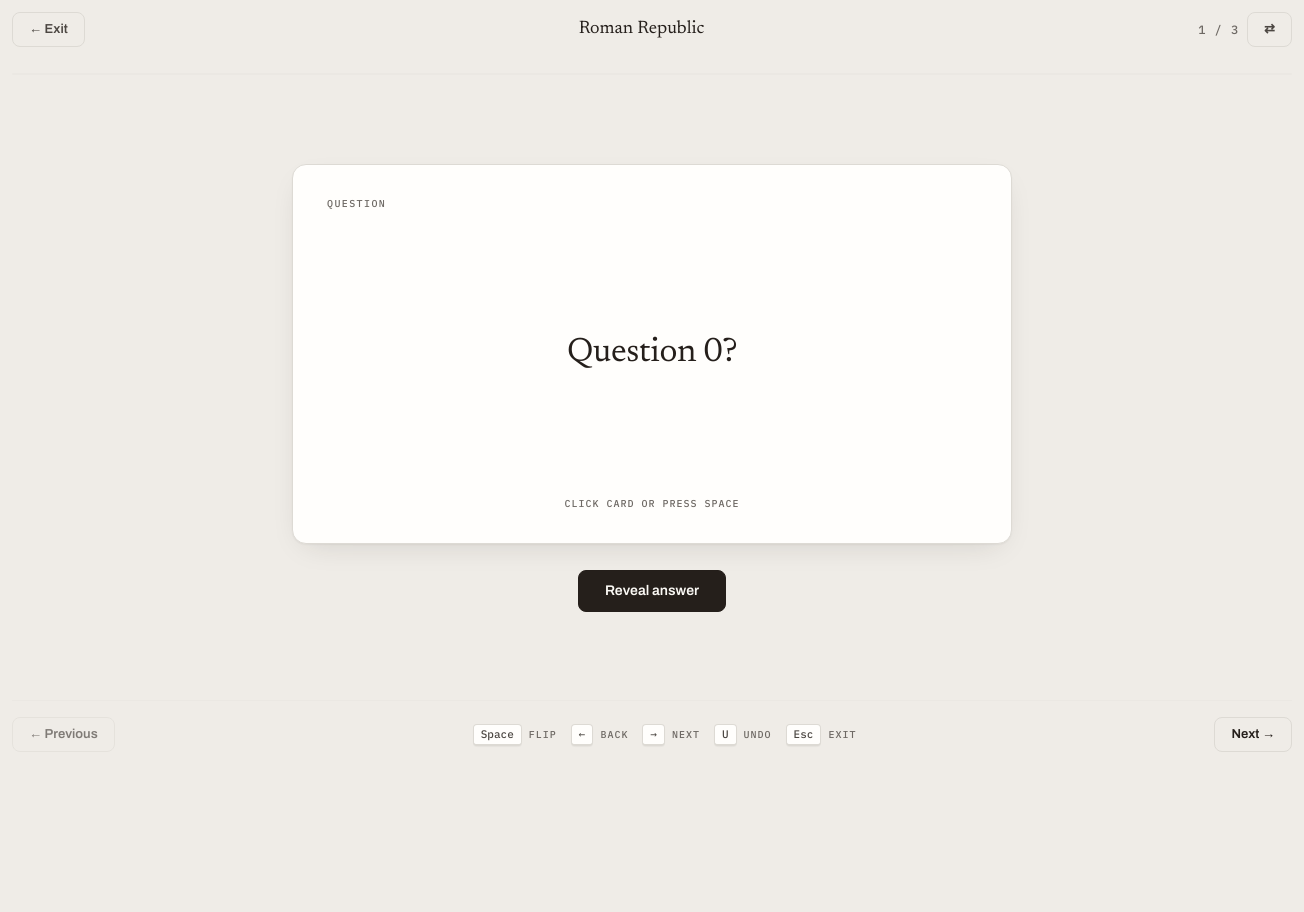
Test: taking a rating back › goes back to the card, face down
The width and height of the screenshot is (1304, 912).
Step 1. Click the button "Reveal answer" → (652, 590), box [578,570,726,612]
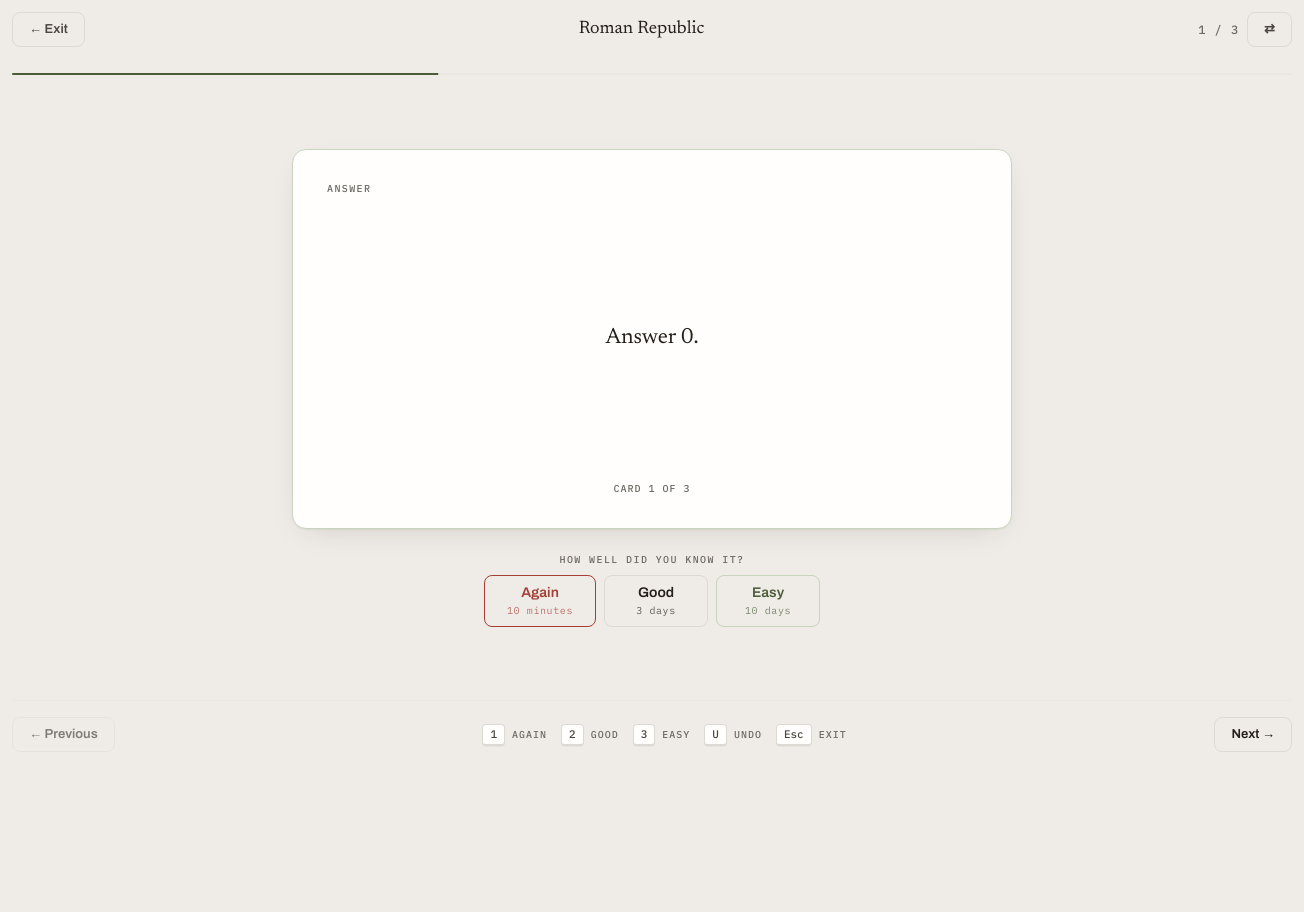
Step 2. Click the button "Good 3 days" → (656, 600), box [604,574,708,626]
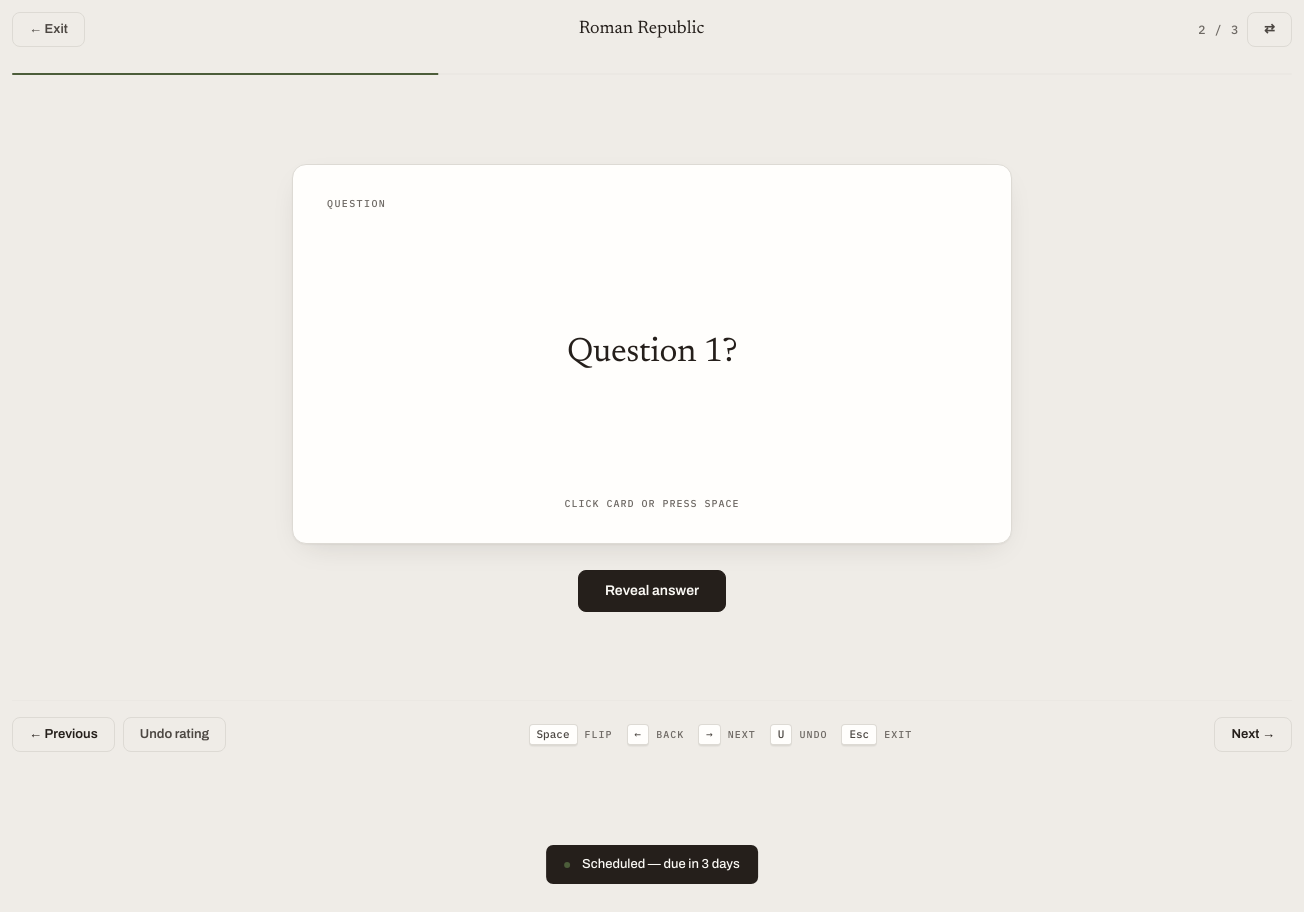
Result: the text "2 / 3" is shown at [1198,22,1239,38]
Step 3. Click the button "Undo rating" → (174, 734), box [123,717,226,752]
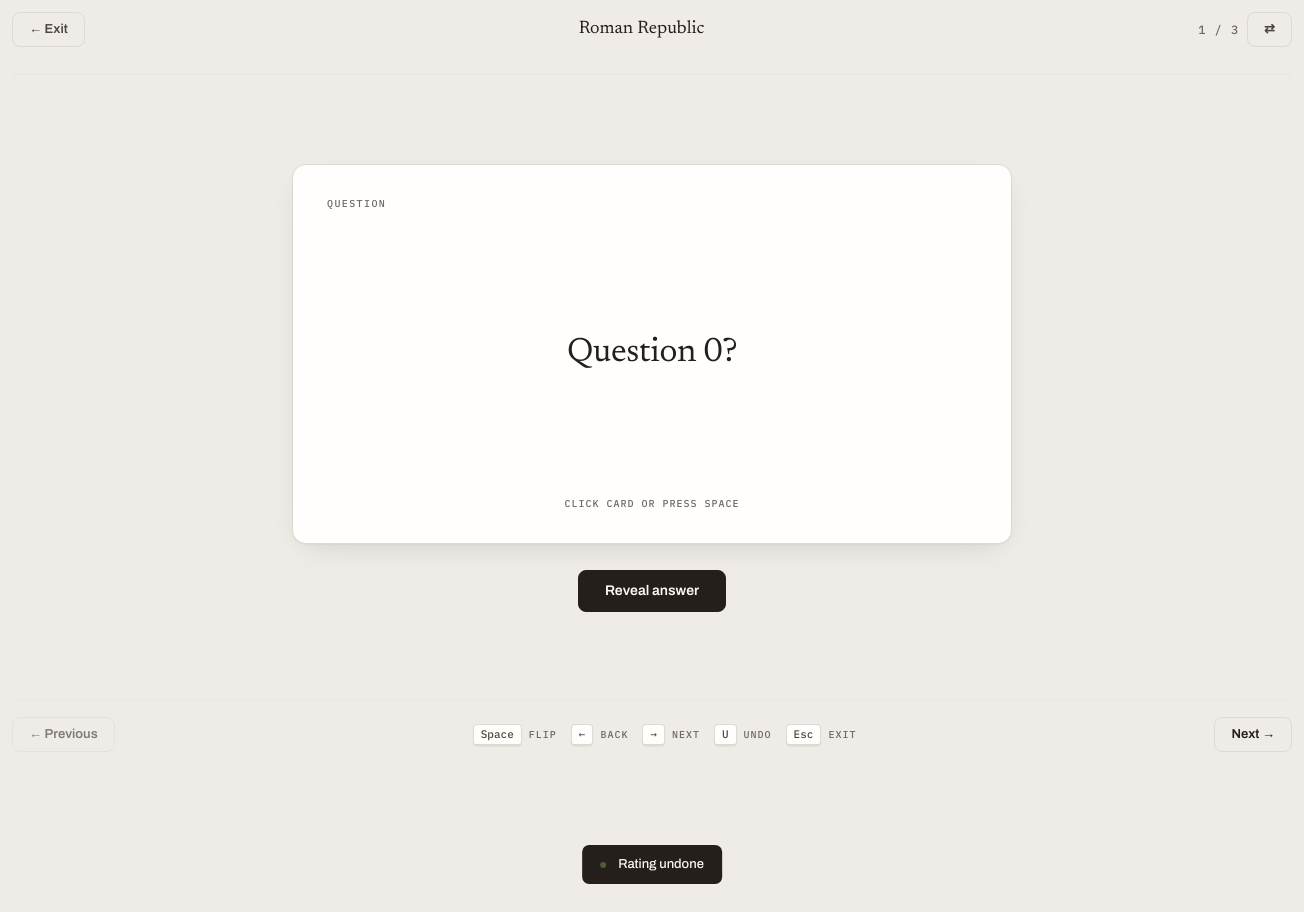
Result: the button "Reveal answer" is shown at [578,570,726,612]
Result: the text "1 / 3" is shown at [1198,22,1239,38]
